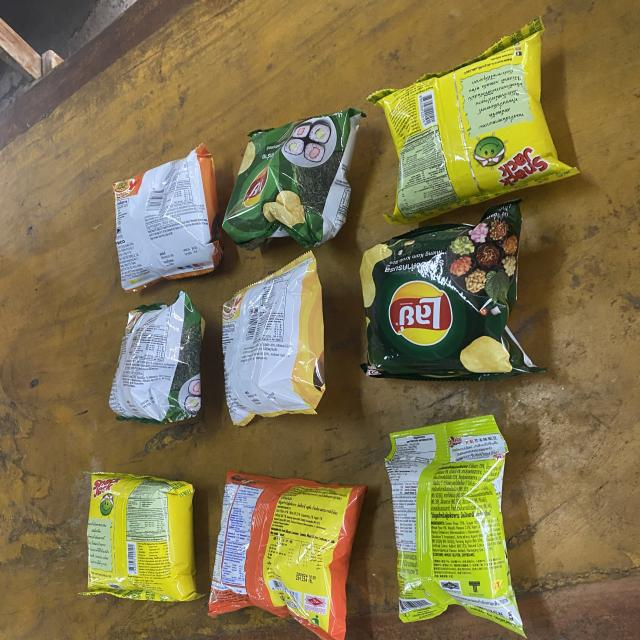plastik: (368, 16, 578, 224), (360, 200, 545, 380), (385, 415, 525, 636), (209, 470, 368, 640), (222, 109, 364, 249), (222, 251, 325, 426), (112, 145, 221, 291), (84, 472, 201, 601), (109, 291, 205, 425)
